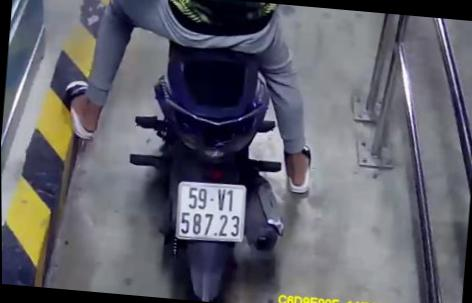LP: (173, 178, 248, 245)
